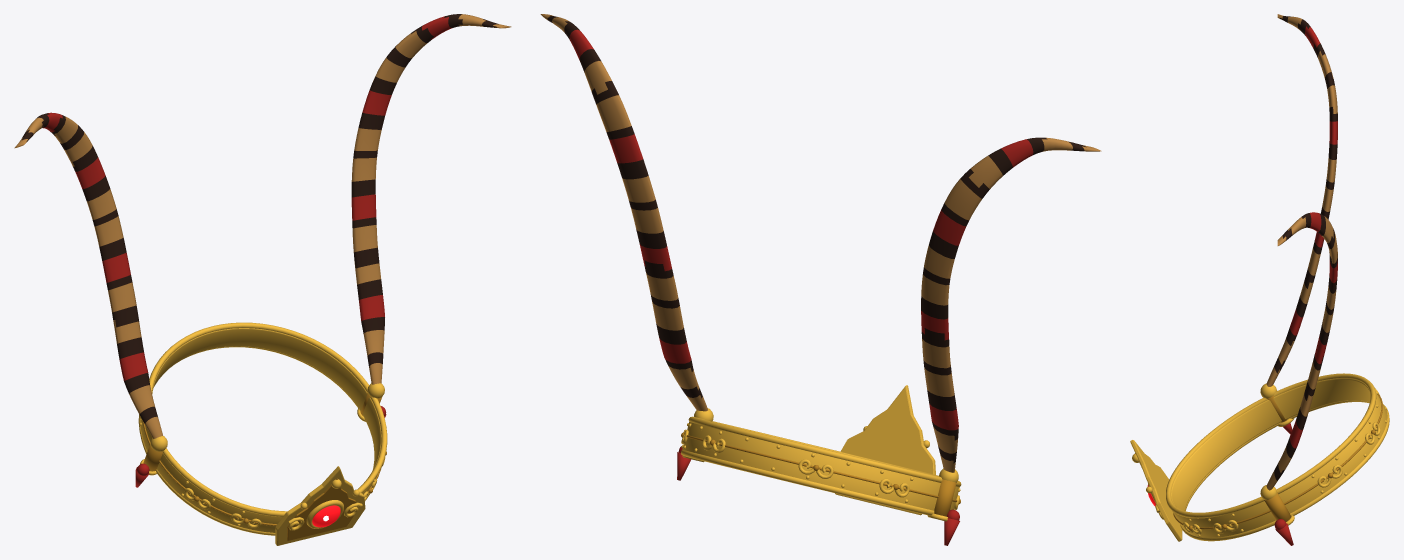
File: golden_headband.glb
3 renders of one model, left to right at view 1: azimuth 30°, elevation 25°; view 2: azimuth 150°, elevation 25°; view 3: azimuth 270°, elevation 25°, orthographic. The views are drawn at different scales.
Visible parts, largest first — view 1: golden_headband; view 2: golden_headband; view 3: golden_headband.
Part boxes in pixels (x1=…): golden_headband: x1=14, y1=14, x2=511, y2=545; golden_headband: x1=540, y1=14, x2=1101, y2=545; golden_headband: x1=1130, y1=14, x2=1389, y2=545.
Bounding box in the file's own units: 1 × 0.8143 × 0.4716.
